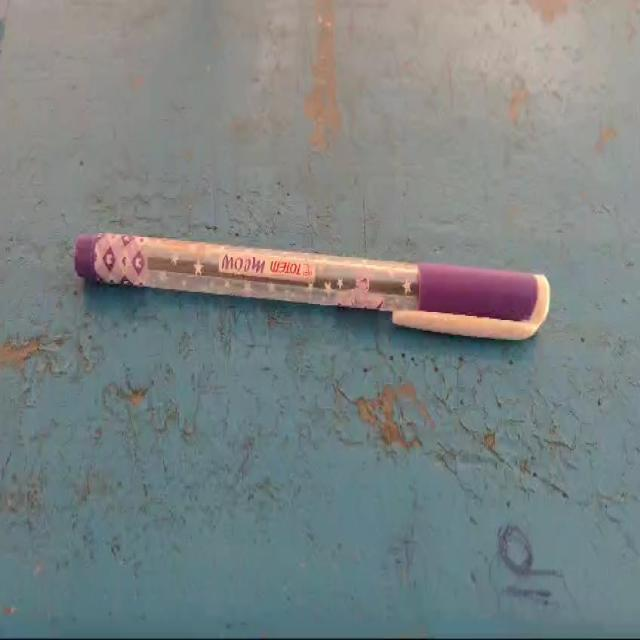pen: (39, 172, 605, 420)
